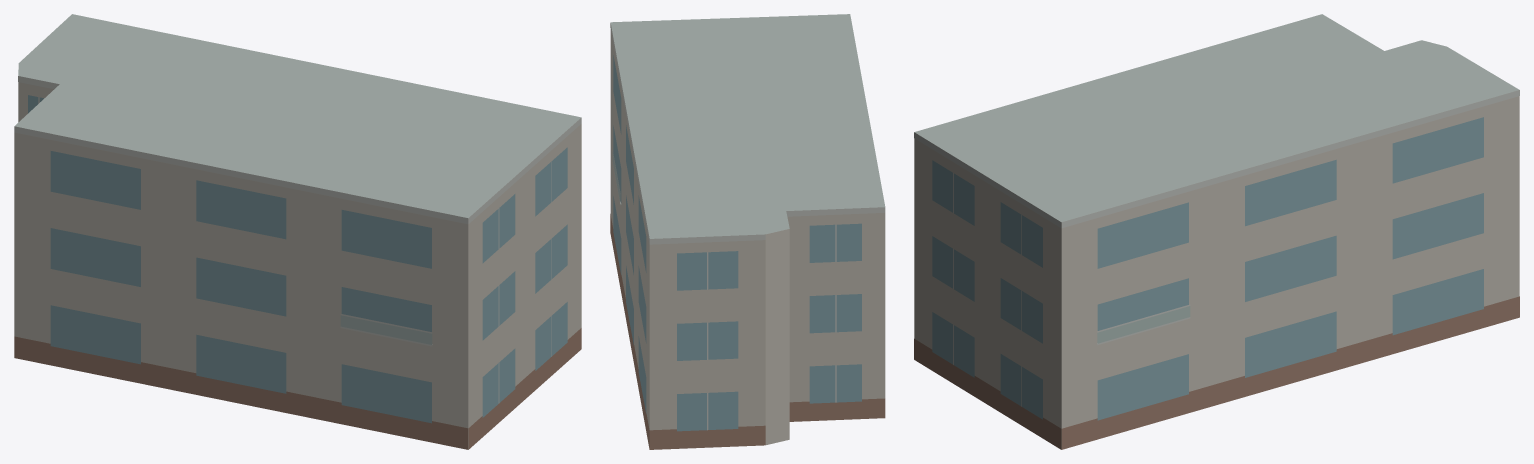
Rendered from survey-upis-32634232.glb.
3 views of the same model, side by side, from view 1: azimuth 30°, elevation 25°; view 2: azimuth 150°, elevation 25°; view 3: azimuth 270°, elevation 25° (orthographic). The views are drawn at different scales.
Parts seen in each view (by area): view 1: survey-upis-32634232.tmp; view 2: survey-upis-32634232.tmp; view 3: survey-upis-32634232.tmp.
Boxes of the visible parts, x1=… form: survey-upis-32634232.tmp: x1=14, y1=14, x2=581, y2=449; survey-upis-32634232.tmp: x1=610, y1=14, x2=885, y2=449; survey-upis-32634232.tmp: x1=914, y1=14, x2=1519, y2=449.
Bounding box in the file's own units: 17.97 × 9.15 × 22.08.
